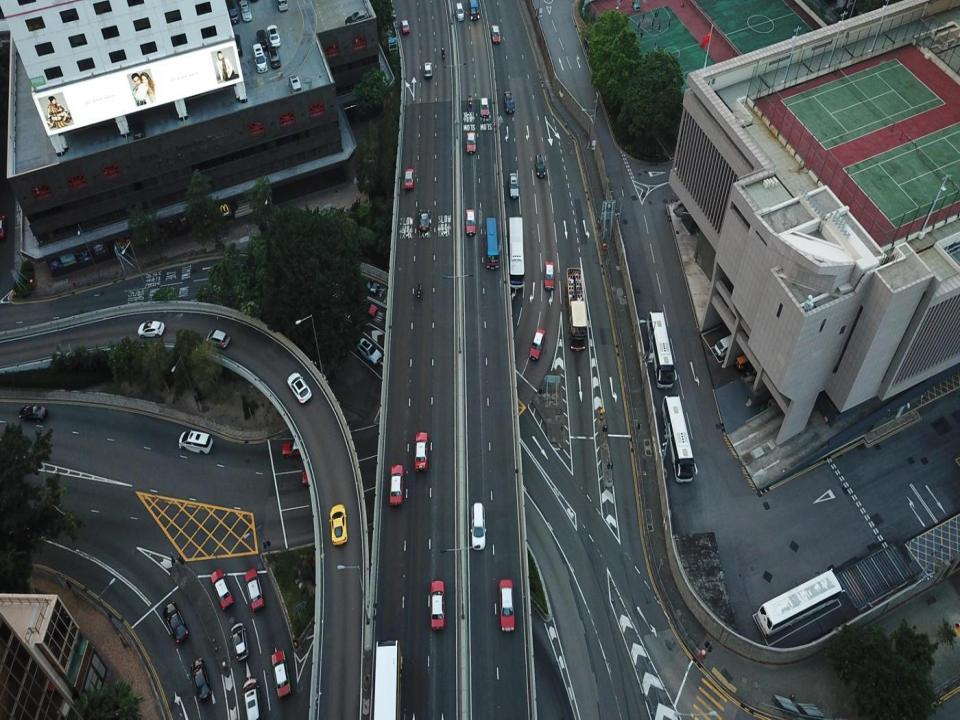bus: (757, 567, 842, 638), (662, 395, 694, 482), (373, 640, 403, 719), (648, 311, 674, 388), (566, 267, 587, 351), (508, 216, 524, 288), (485, 217, 500, 268), (469, 0, 479, 19)
car: (163, 602, 189, 642), (210, 568, 233, 610), (191, 657, 211, 702), (272, 650, 291, 697), (245, 568, 265, 612), (243, 678, 263, 719), (179, 430, 213, 454), (287, 372, 312, 404), (230, 622, 250, 662), (499, 580, 514, 632), (329, 504, 347, 544), (354, 337, 380, 364), (472, 503, 485, 550), (432, 580, 444, 628), (390, 464, 403, 505), (137, 320, 165, 339), (529, 329, 545, 360), (206, 329, 230, 349), (20, 405, 48, 422), (252, 44, 268, 72), (283, 440, 307, 458), (416, 432, 427, 471), (358, 277, 381, 293), (346, 9, 369, 24), (544, 262, 555, 290), (302, 471, 322, 486), (357, 302, 378, 316), (239, 0, 252, 22), (268, 25, 280, 48), (534, 154, 545, 178), (466, 209, 475, 236), (269, 46, 280, 68), (419, 209, 430, 231), (504, 92, 514, 114), (510, 174, 519, 198), (404, 168, 414, 189), (466, 132, 475, 152), (492, 25, 500, 44), (0, 216, 6, 240), (401, 18, 410, 33), (424, 62, 433, 77), (481, 97, 488, 116)
van: (714, 333, 740, 359), (226, 0, 239, 24), (132, 120, 146, 142), (288, 75, 302, 95), (231, 34, 242, 56), (256, 30, 267, 50), (456, 2, 464, 21), (276, 0, 288, 11)
